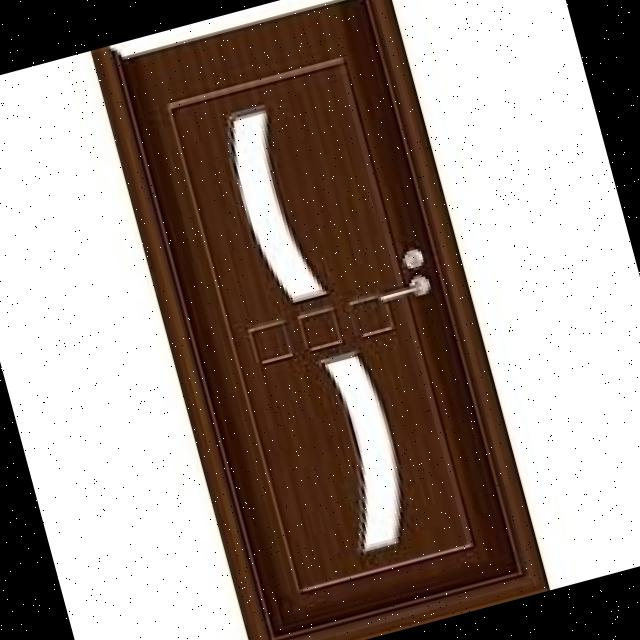Door: (86, 0, 550, 640)
